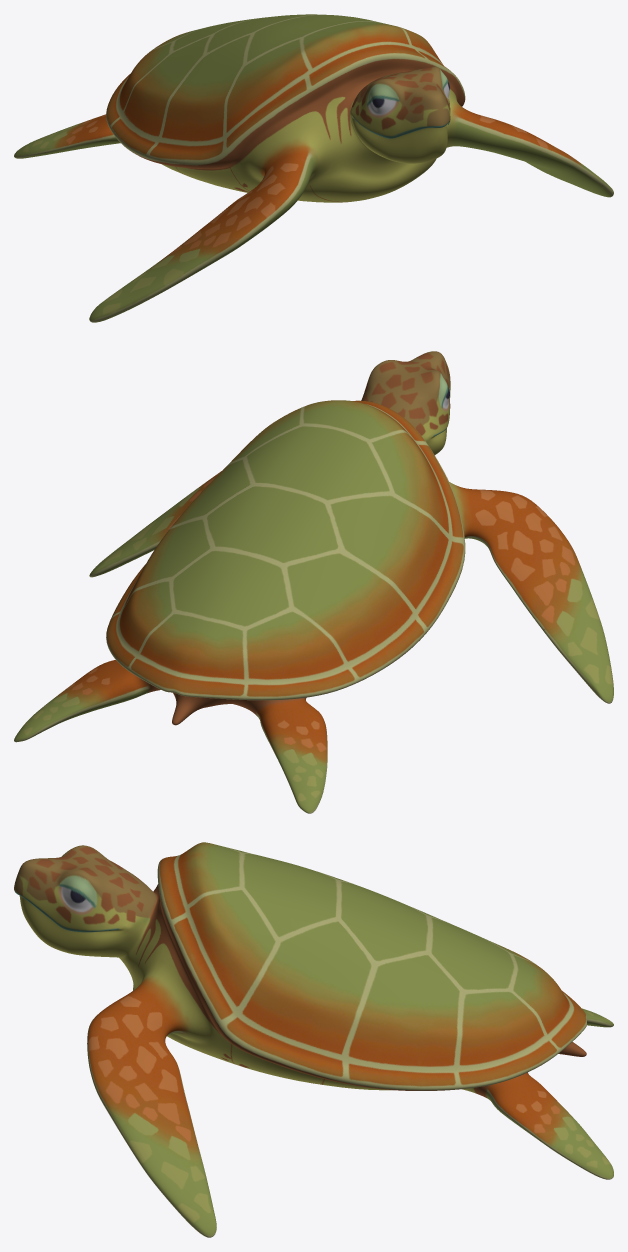
File: turtle.fbx
3 views of the same model, one above another, from view 1: azimuth 30°, elevation 25°; view 2: azimuth 150°, elevation 25°; view 3: azimuth 270°, elevation 25° (orthographic). The views are drawn at different scales.
Visible parts, largest first — view 1: node_id5; view 2: node_id5; view 3: node_id5.
Boxes of the visible parts, x1,y1,x2,y2 form: node_id5: [14, 14, 613, 322]; node_id5: [14, 351, 613, 813]; node_id5: [14, 842, 613, 1237].
Size of the model in its own units: 0.512 by 0.2186 by 0.4785.
1 material, 1 textured.
